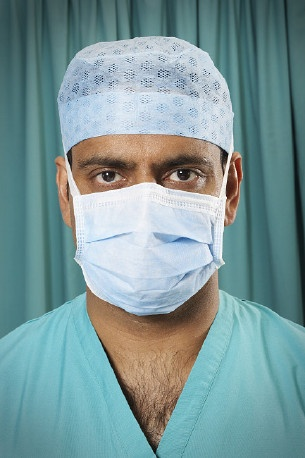Mask: (62, 140, 238, 316)
